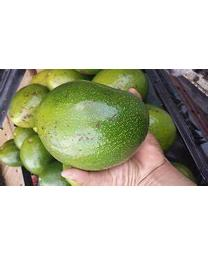avocado: (35, 80, 150, 172)
